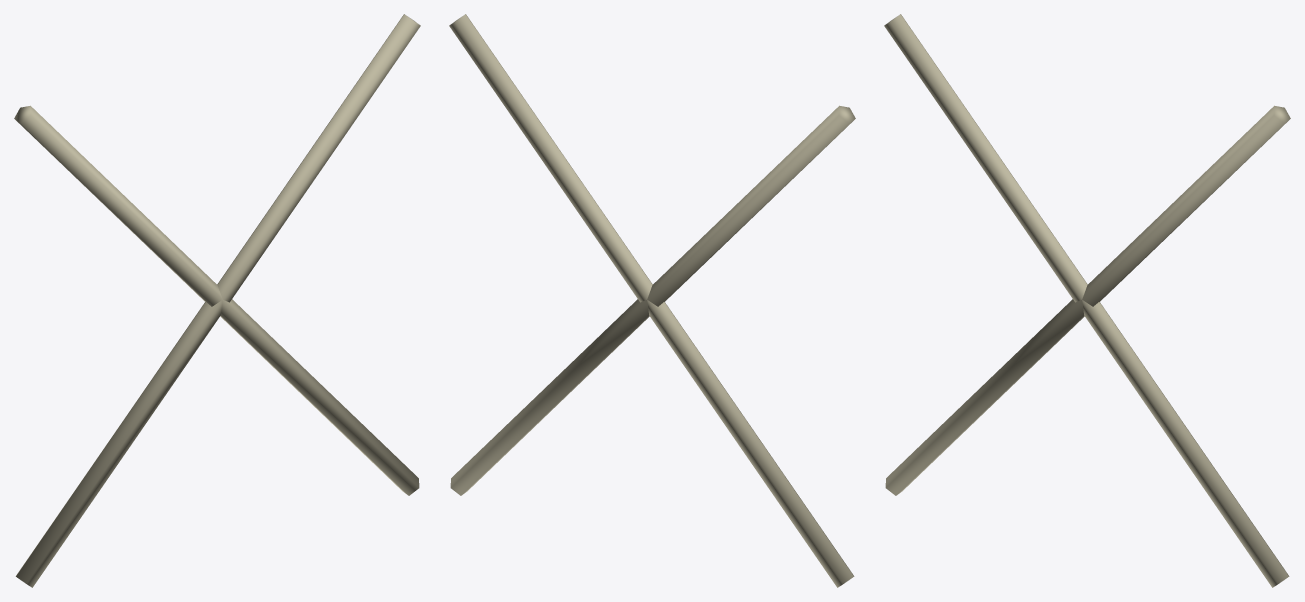
Rendered from chalk-cross.glb.
3 views of the same model, side by side, from view 1: azimuth 30°, elevation 25°; view 2: azimuth 150°, elevation 25°; view 3: azimuth 330°, elevation 25° (orthographic).
Visible parts, largest first — view 1: Surface; view 2: Surface; view 3: Surface.
Boxes of the visible parts, bbox=[...] form: Surface: bbox=[14, 14, 420, 587]; Surface: bbox=[449, 14, 855, 587]; Surface: bbox=[884, 14, 1290, 587].
Size of the model in its own units: 0.4151 by 0.4719 by 0.019.
